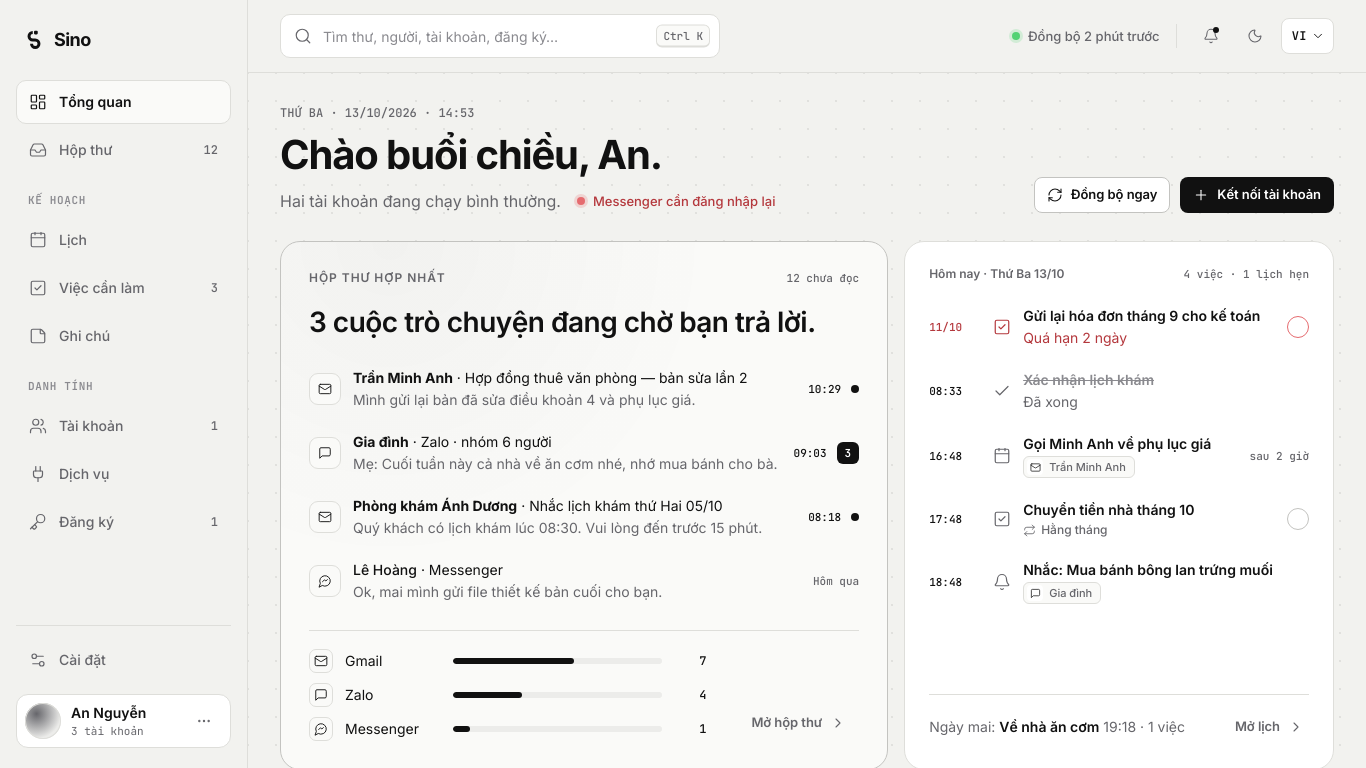
Test: the owner menu and the end of a session › signs out all the same when the session was already gone (401)
Click the button named "Tài khoản Sino của bạn" at (204, 721), box x1=186 y1=703 x2=222 y2=739
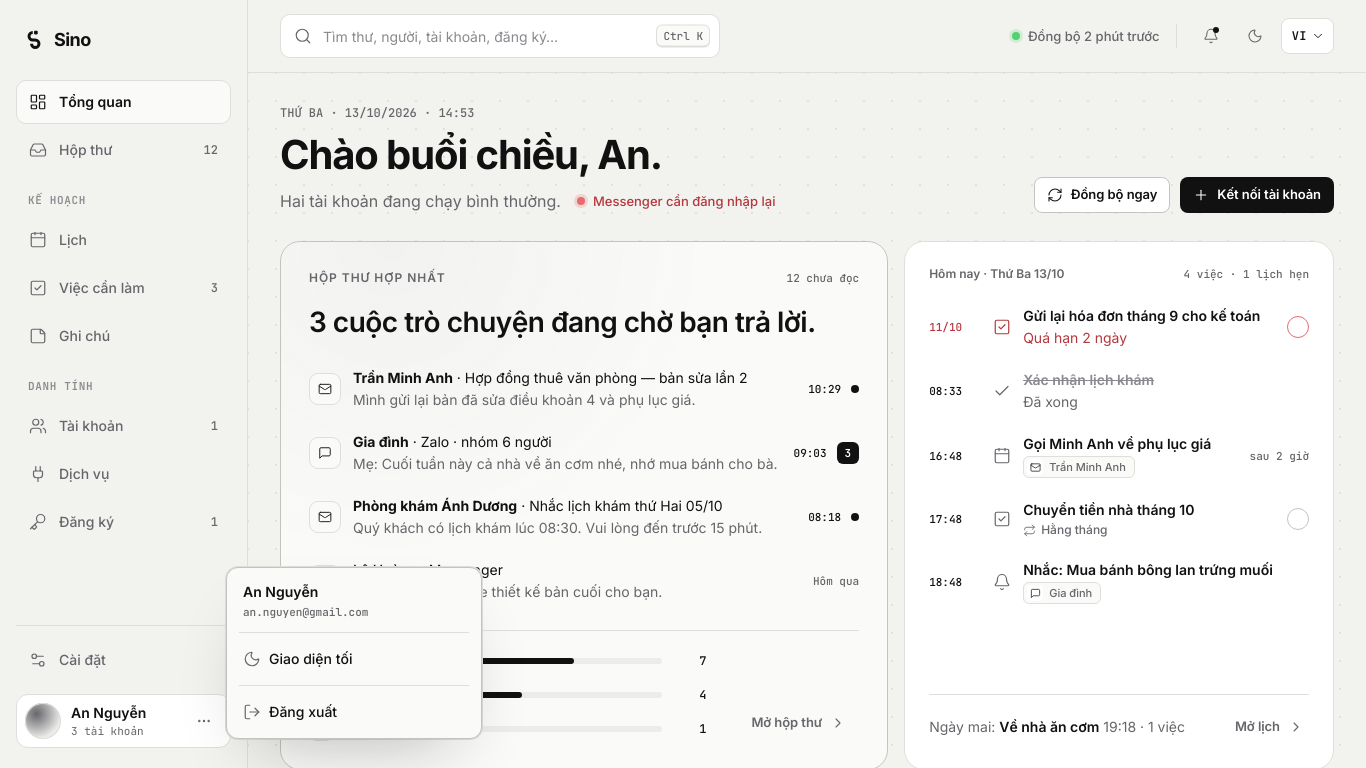
Click the menu item "Đăng xuất" at (290, 712), box x1=243 y1=703 x2=337 y2=721
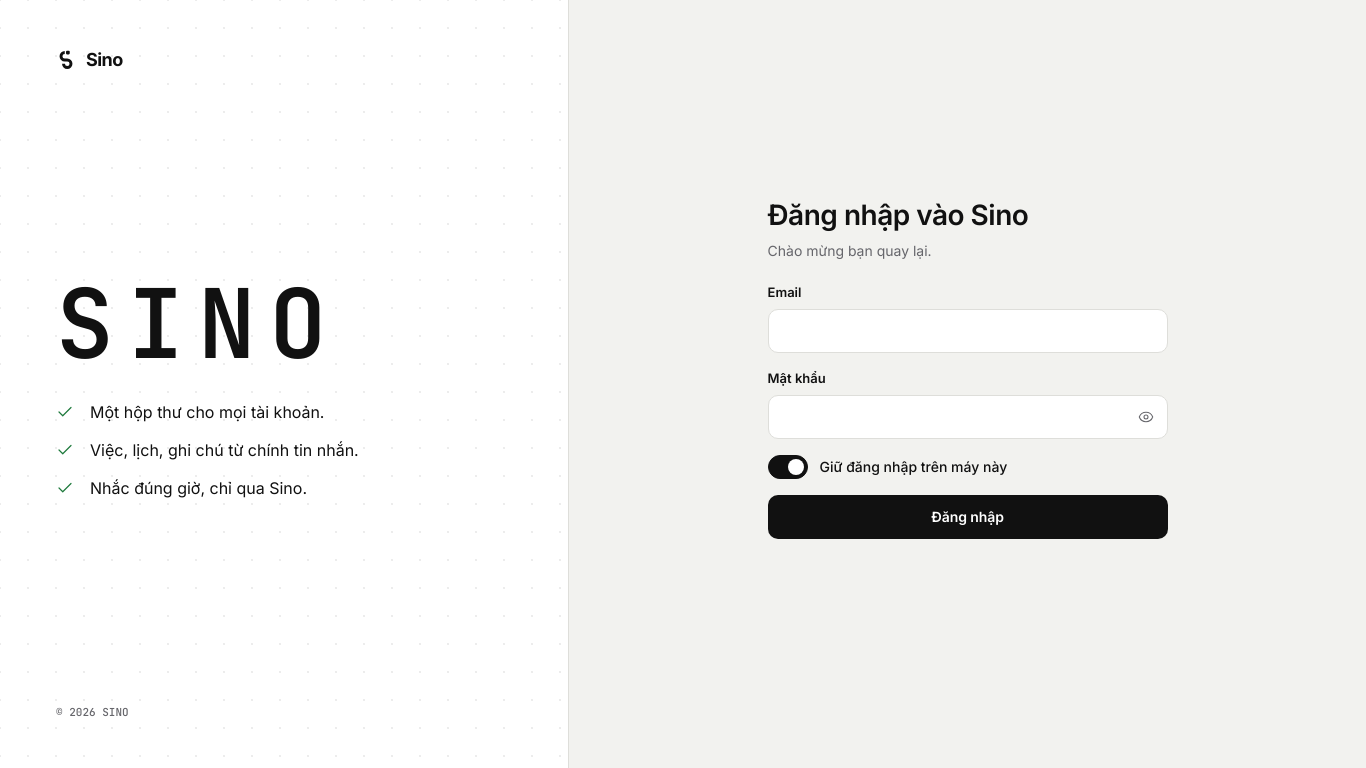
Expected: the heading "Đăng nhập vào Sino" is shown, x1=768 y1=198 x2=1028 y2=232
